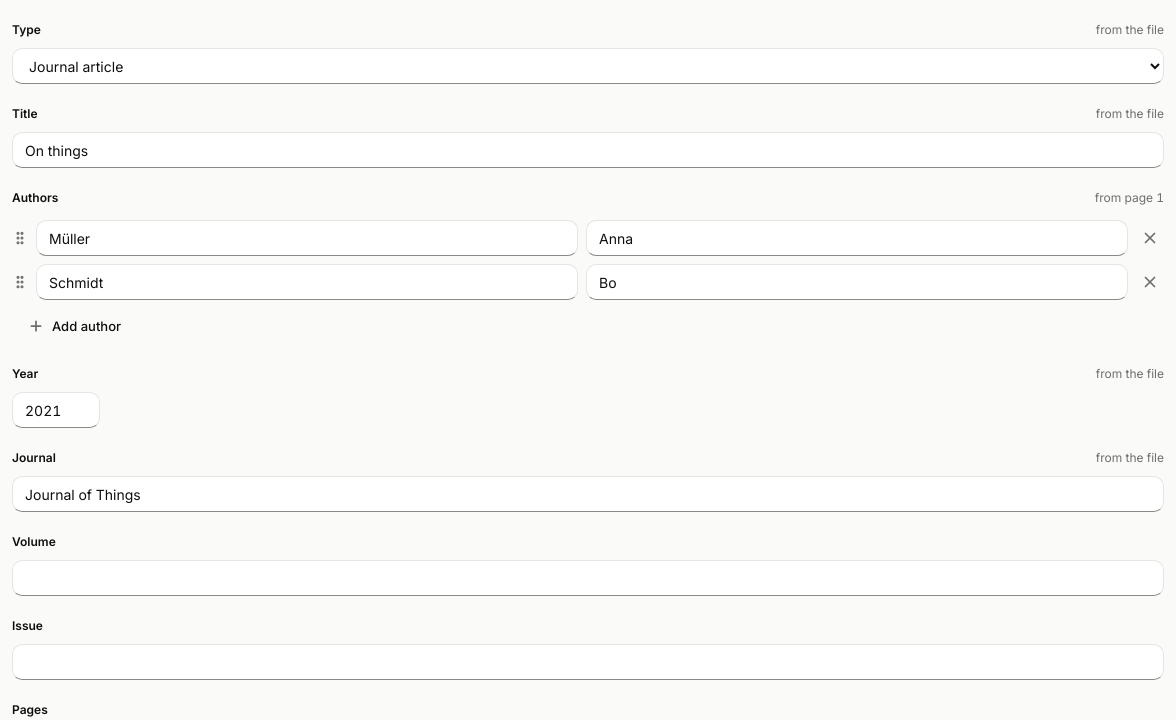
Test case: ReferenceForm › marks an edited field and restores the file value
Type " more" into the field labelled "Title" at (588, 150), box [12,132,1164,168]
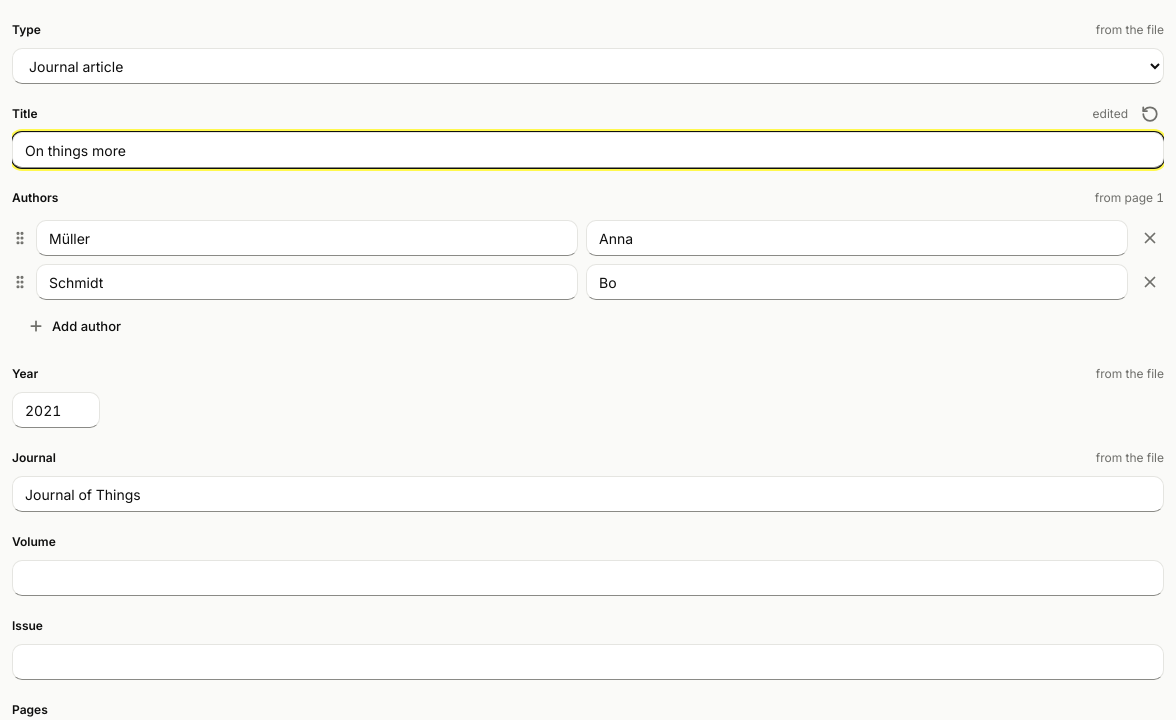
Expected: the text "edited" is shown once, [1093,106,1128,122]
Click the button named "Use the value from the file" at (1150, 114), box [1136,100,1164,128]
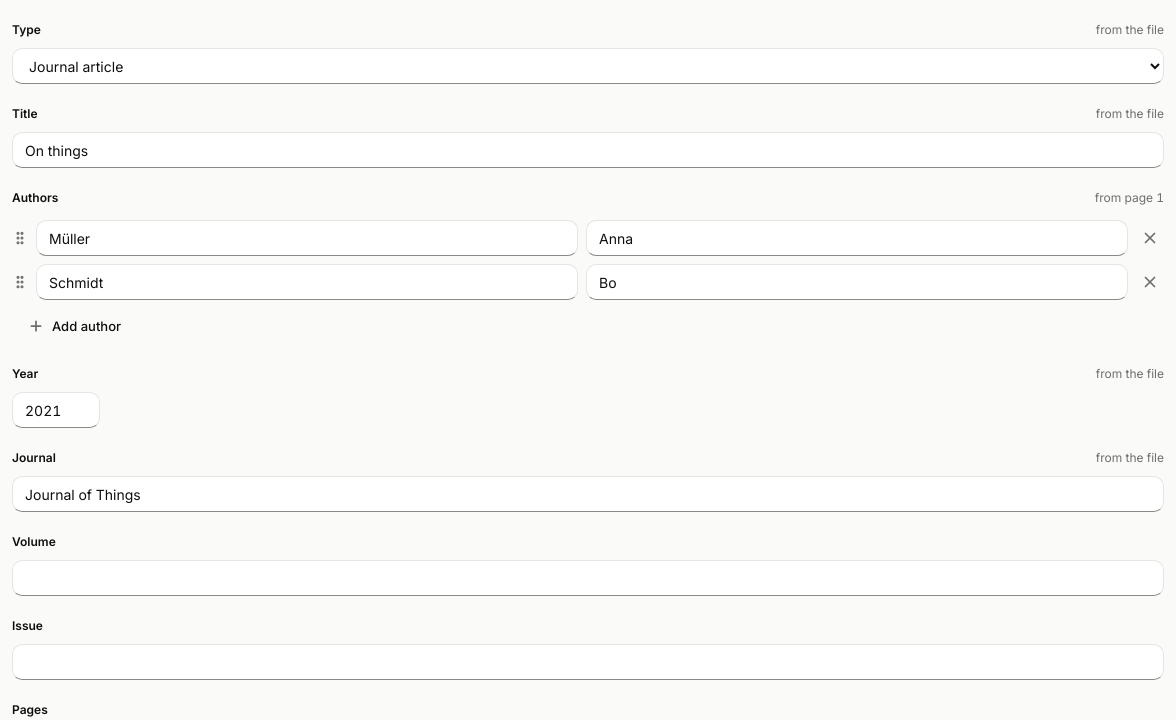
Expected: the field labelled "Title" holds "On things", [12,132,1164,168]
Expected: the text "edited" is gone
